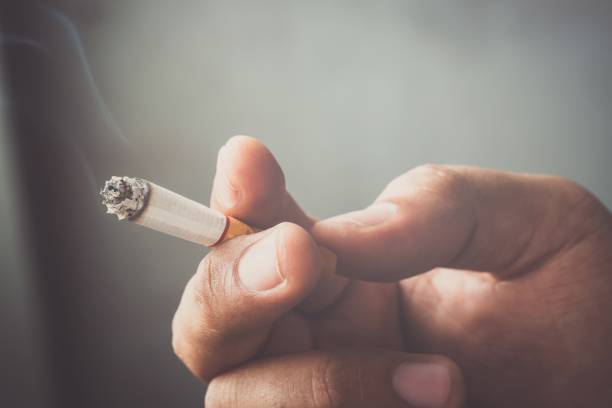cigarette: (100, 176, 256, 250)
